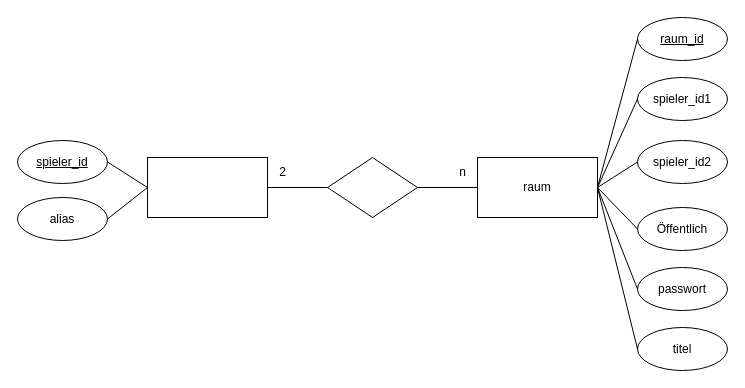
Some shapes in this 745 by 388 pixel diagram are drawn without their labels. The box of each missing label's shape, as (x1, y1, x2, y2) in pixels:
erstellt: (326, 156, 418, 218)
spieler: (146, 156, 268, 218)
